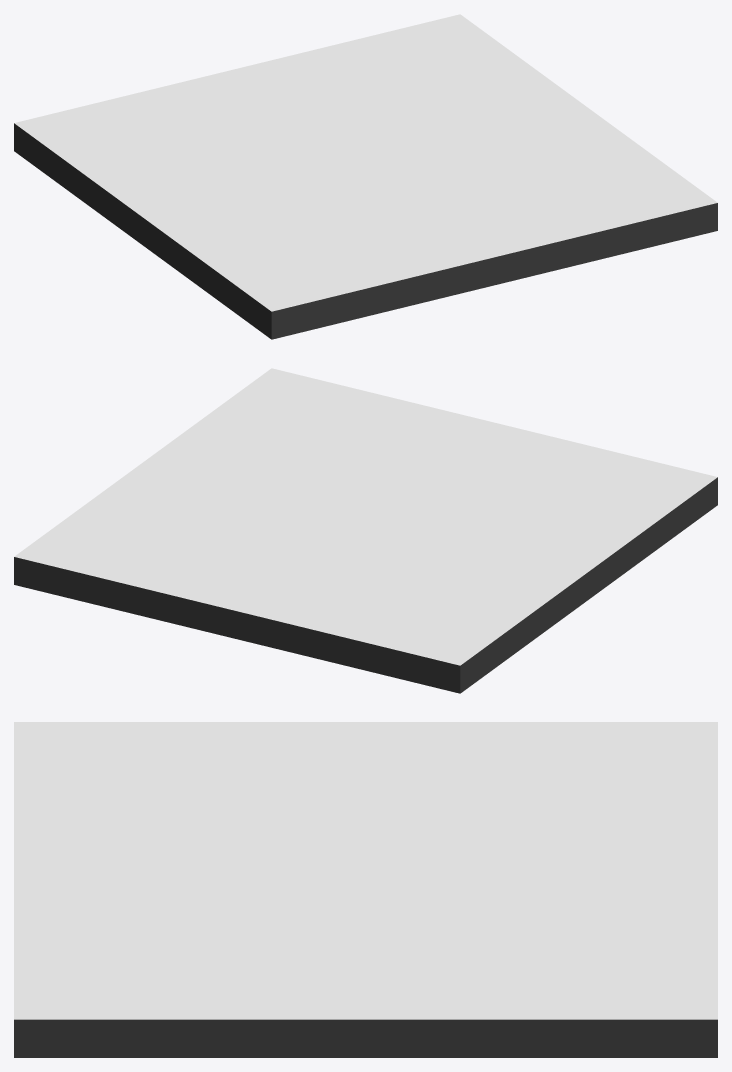
Rendered from Floor_12a.fbx.
The picture shows the model from 3 angles, top to bottom: view 1: azimuth 30°, elevation 25°; view 2: azimuth 150°, elevation 25°; view 3: azimuth 270°, elevation 25°; orthographic projection. The views are drawn at different scales.
Parts seen in each view (by area): view 1: Floor_12a; view 2: Floor_12a; view 3: Floor_12a.
Boxes of the visible parts, x1,y1,x2,y2 form: Floor_12a: (14, 14, 717, 339); Floor_12a: (14, 368, 717, 693); Floor_12a: (14, 722, 717, 1057).
Bounding box in the file's own units: 5 × 0.3 × 5.
